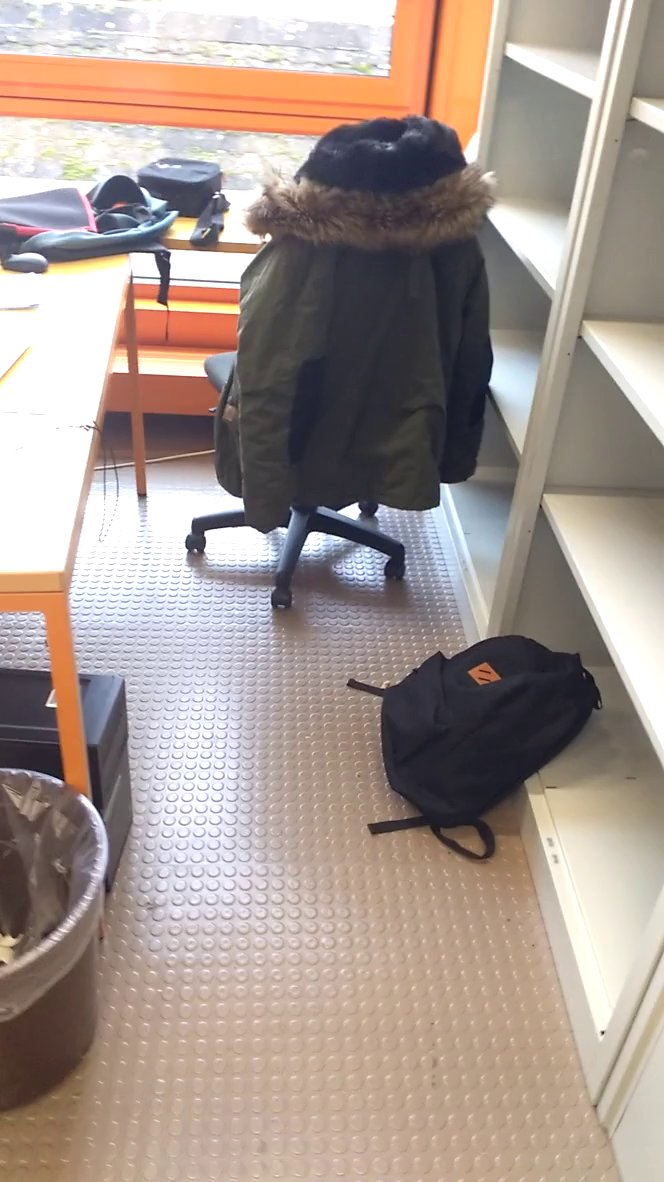bag: (336, 631, 608, 869)
